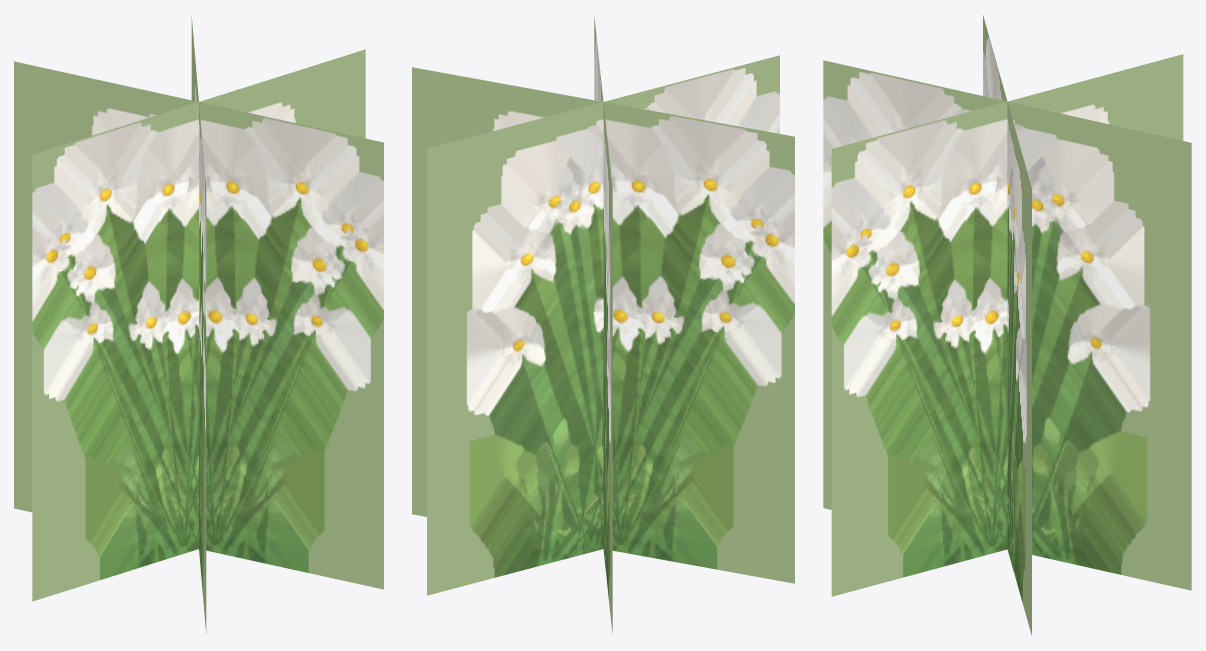
The model's file is perennial_oxeye.glb.
3 renders of one model, left to right at view 1: azimuth 30°, elevation 25°; view 2: azimuth 150°, elevation 25°; view 3: azimuth 270°, elevation 25°, orthographic.
Visible parts, largest first — view 1: perennial_oxeye; view 2: perennial_oxeye; view 3: perennial_oxeye.
Part boxes in pixels (box(x1,y1,x2,y2)): perennial_oxeye: box(14, 17, 383, 633); perennial_oxeye: box(412, 17, 794, 633); perennial_oxeye: box(823, 15, 1191, 635).
Size of the model in its own units: 0.3773 by 0.45 by 0.3356.
Materials: 1 (1 with a texture image).
